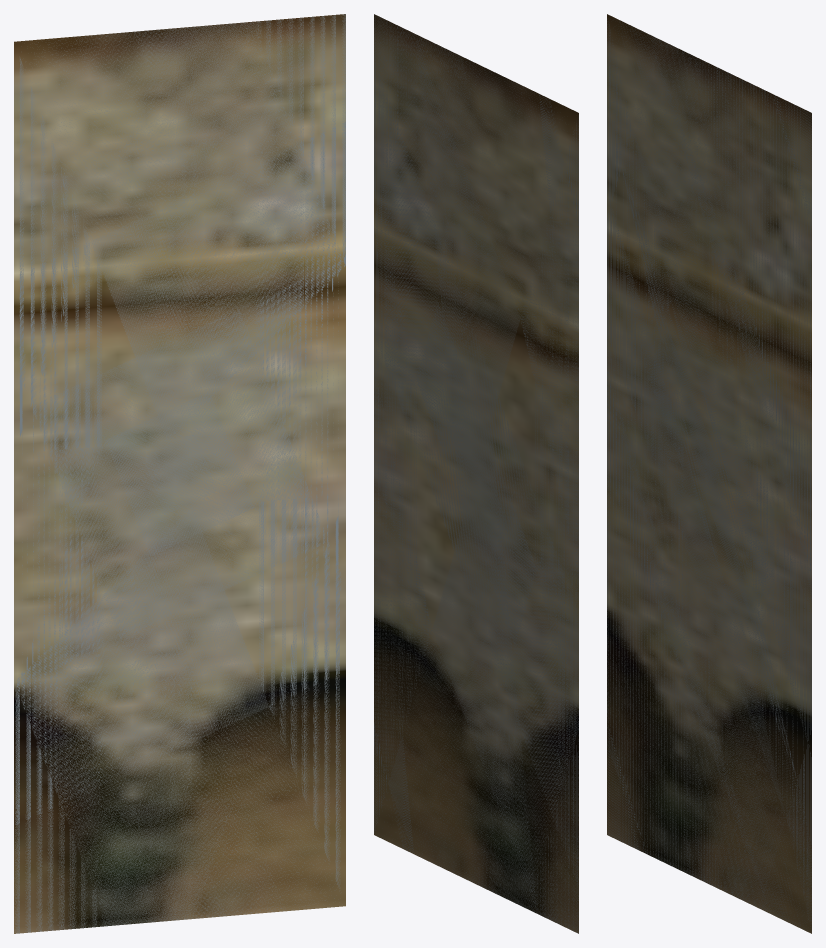
The model's file is 西庸城堡190.dae.
3 views of the same model, side by side, from view 1: azimuth 30°, elevation 25°; view 2: azimuth 150°, elevation 25°; view 3: azimuth 330°, elevation 25° (orthographic). The views are drawn at different scales.
Parts seen in each view (by area): view 1: SketchUp; view 2: SketchUp; view 3: SketchUp.
Part boxes in pixels (x1=…): SketchUp: x1=14, y1=14, x2=345, y2=933; SketchUp: x1=374, y1=14, x2=578, y2=933; SketchUp: x1=607, y1=14, x2=811, y2=933.
Bounding box in the file's own units: 38.4 × 13.08 × 118.
